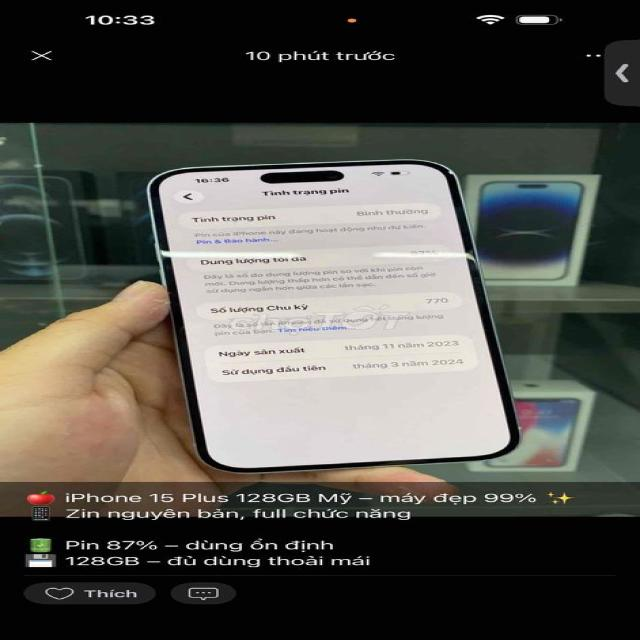scratch: (443, 166, 460, 176)
